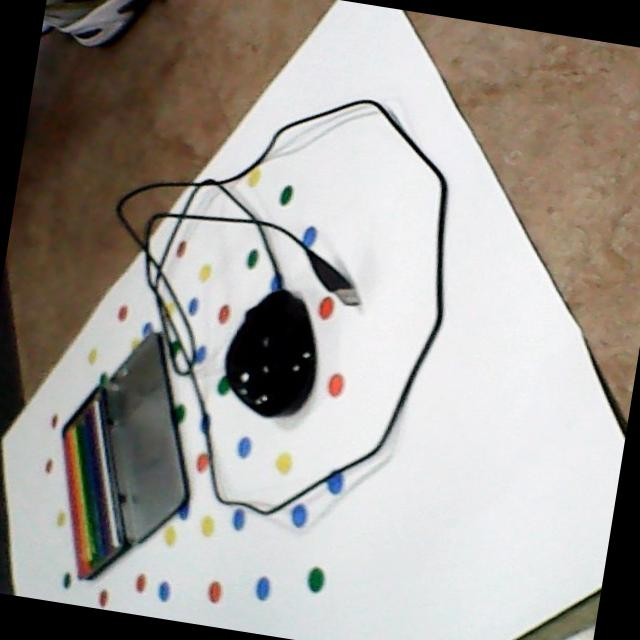color: (54, 374, 137, 589)
mouse: (222, 283, 323, 421)
